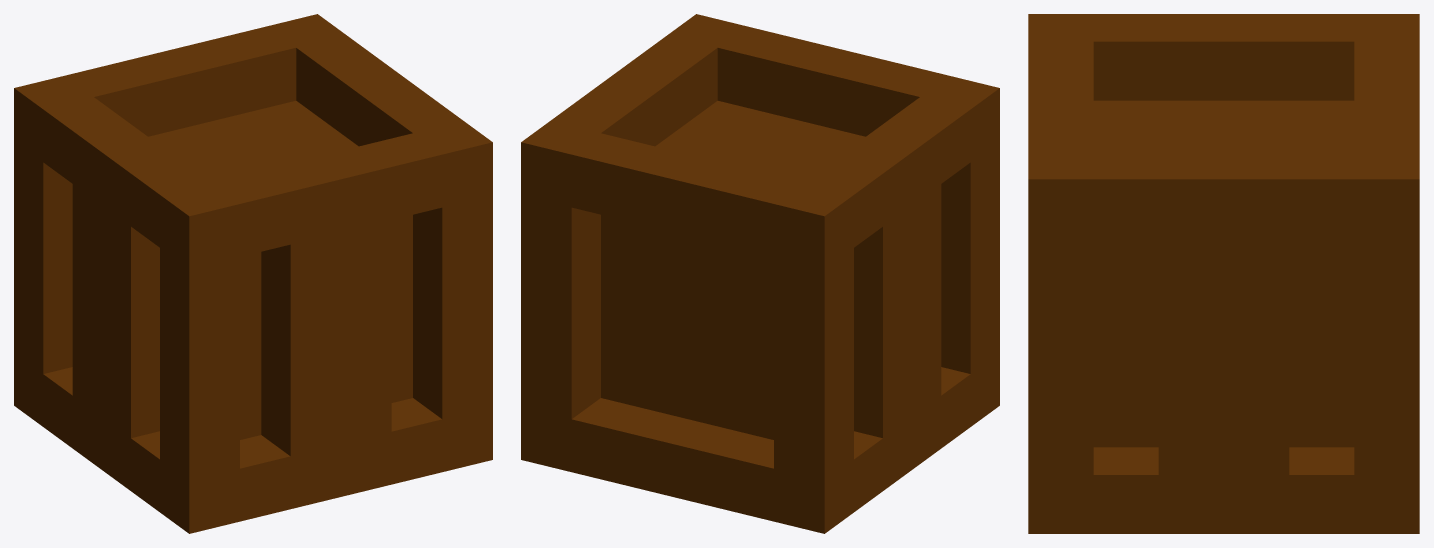
Rendered from wooden_crate_2x2.fbx.
3 views of the same model, side by side, from view 1: azimuth 30°, elevation 25°; view 2: azimuth 150°, elevation 25°; view 3: azimuth 270°, elevation 25° (orthographic). The views are drawn at different scales.
Parts seen in each view (by area): view 1: ObjObject; view 2: ObjObject; view 3: ObjObject.
Part boxes in pixels (x1,y1,x2,y2): ObjObject: (14,14,492,533); ObjObject: (521,14,999,533); ObjObject: (1028,14,1419,533).
Size of the model in its own units: 60 by 60 by 60.
